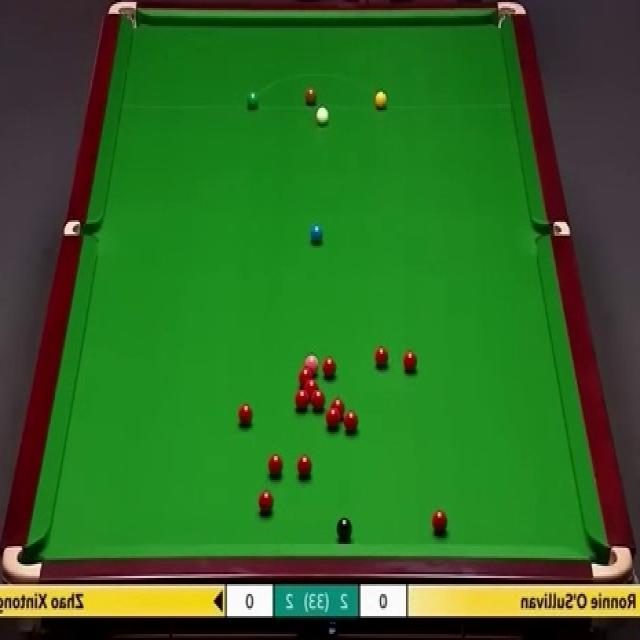black-ball: (337, 514, 352, 542)
blue-ball: (310, 222, 324, 246)
brown-ball: (306, 88, 318, 106)
green-ball: (247, 90, 258, 110)
pink-ball: (303, 354, 319, 371)
red-ball: (430, 510, 448, 535), (258, 490, 275, 516), (321, 355, 337, 381), (324, 407, 340, 429), (268, 454, 284, 476), (236, 404, 252, 426), (296, 455, 312, 477), (403, 349, 418, 372), (375, 346, 389, 370), (343, 411, 358, 432), (294, 390, 309, 409), (310, 391, 326, 408), (331, 396, 345, 414), (302, 379, 320, 392), (296, 369, 314, 380)
white-ball: (314, 106, 330, 126)
yellow-ball: (373, 89, 388, 110)
